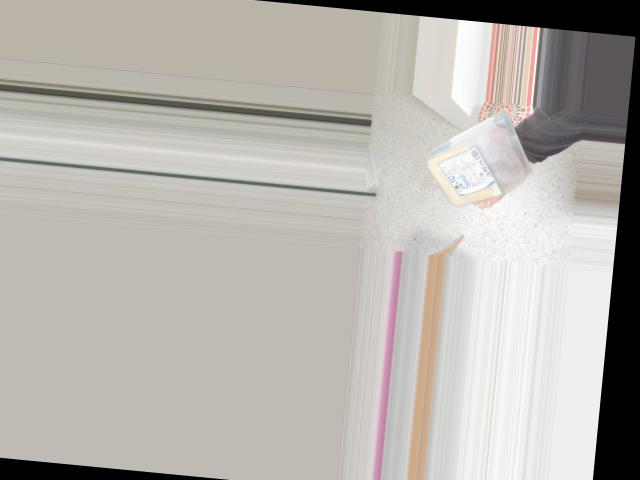cheese: (425, 118, 526, 211)
